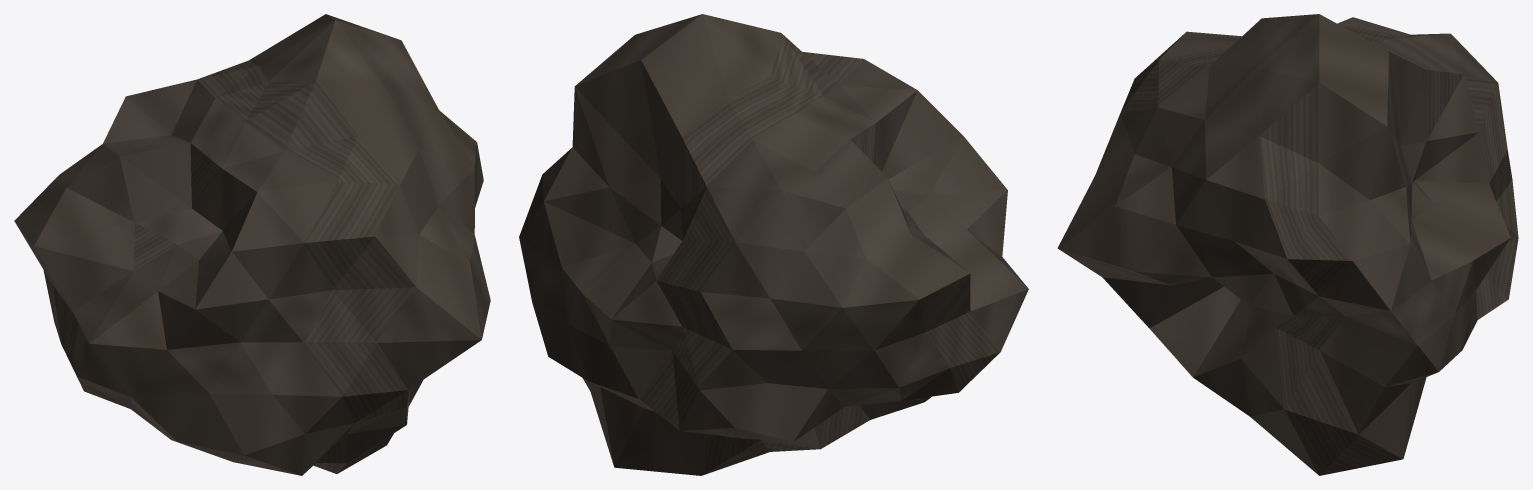
The model's file is asteroid_lumpy.glb.
3 renders of one model, left to right at view 1: azimuth 30°, elevation 25°; view 2: azimuth 150°, elevation 25°; view 3: azimuth 270°, elevation 25°, orthographic. The views are drawn at different scales.
Visible parts, largest first — view 1: asteroid_lumpy; view 2: asteroid_lumpy; view 3: asteroid_lumpy.
Part boxes in pixels (box(x1,y1,x2,y2)): asteroid_lumpy: box(14, 14, 490, 475); asteroid_lumpy: box(519, 14, 1028, 475); asteroid_lumpy: box(1057, 14, 1518, 475).
Size of the model in its own units: 8 by 7.84 by 7.5.
Materials: 1 (1 with a texture image).
